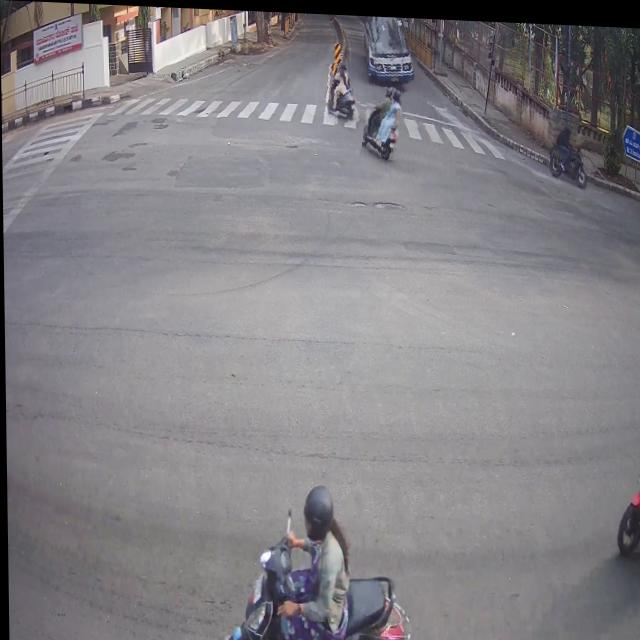Two-wheelers: (242, 531, 409, 640), (367, 13, 418, 83), (362, 83, 403, 157), (548, 120, 593, 187), (326, 59, 361, 121)
